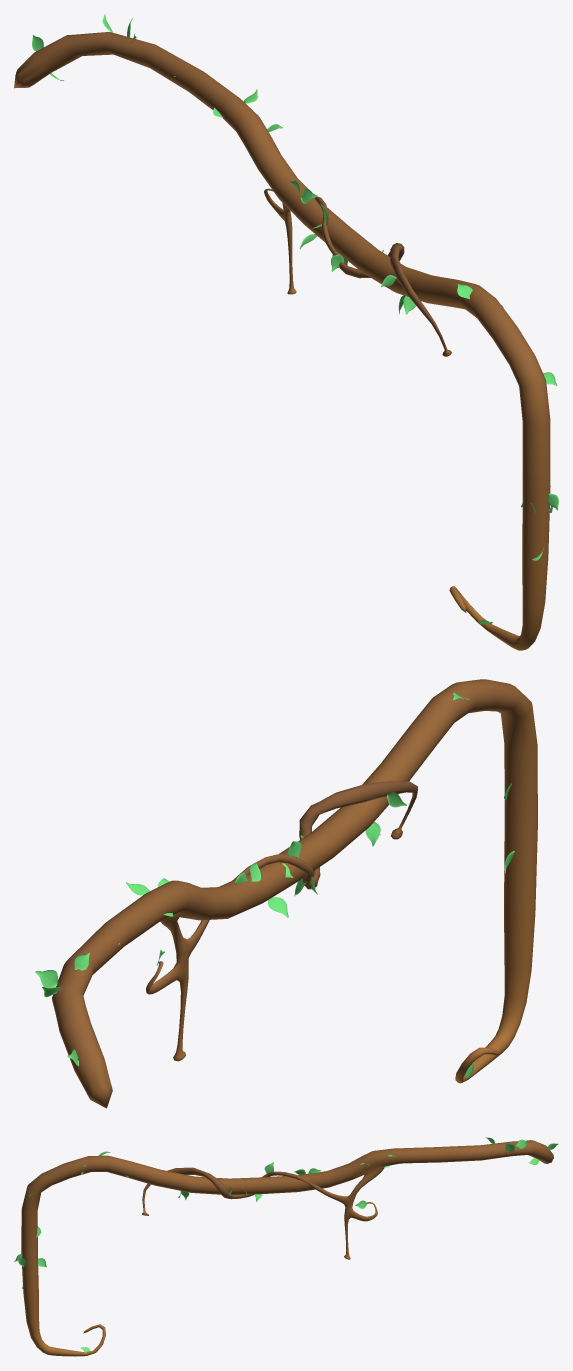
Rendered from vines.fbx.
3 views of the same model, one above another, from view 1: azimuth 30°, elevation 25°; view 2: azimuth 150°, elevation 25°; view 3: azimuth 270°, elevation 25° (orthographic). The views are drawn at different scales.
Parts seen in each view (by area): view 1: Vine; view 2: Vine; view 3: Vine.
Boxes of the visible parts, x1,y1,x2,y2 form: Vine: (14, 32, 550, 650); Vine: (52, 679, 537, 1108); Vine: (21, 1140, 553, 1356).
Size of the model in its own units: 109 by 318 by 736.
